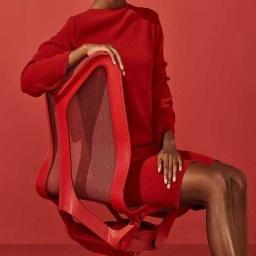Chair: (39, 51, 177, 253)
